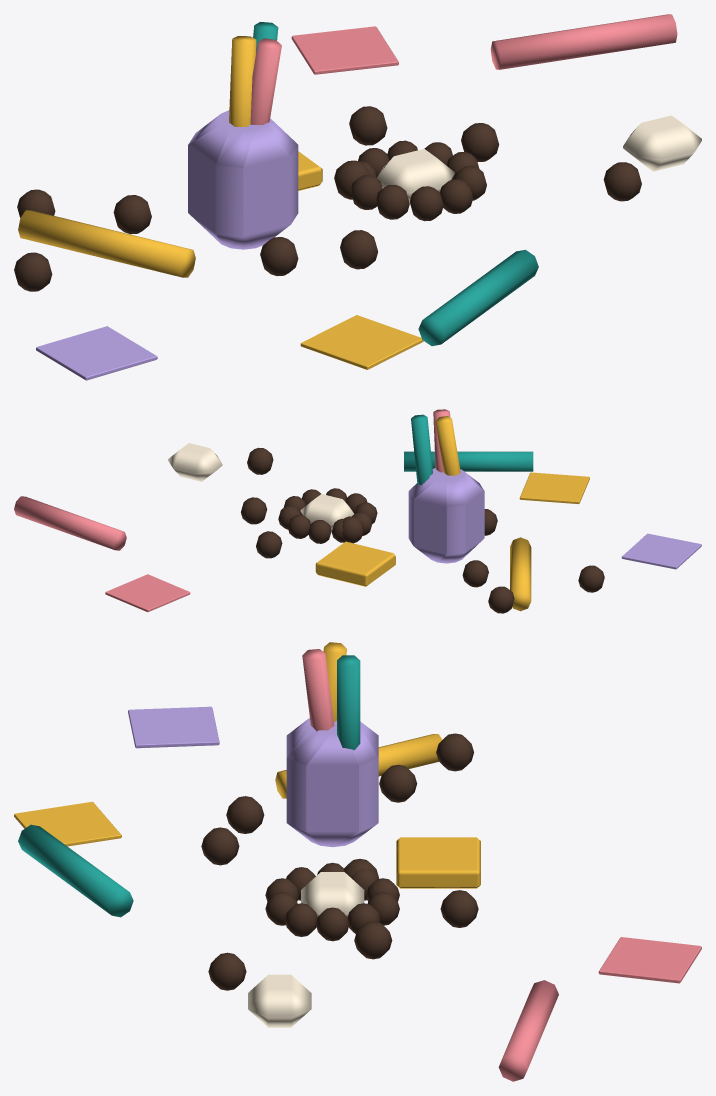
Rendered from tidy_desk_stationery.glb.
The picture shows the model from 3 angles, top to bottom: view 1: azimuth 30°, elevation 25°; view 2: azimuth 150°, elevation 25°; view 3: azimuth 270°, elevation 25°; orthographic projection. The views are drawn at different scales.
Parts seen in each view (by area): view 1: TCup, MPen2, MPen0, MPen1, MNote0, MNote2, MNote1, MCharger, TCharger, TPen0, TPen2, MCable6 (+14 smaller); view 2: TCup, MPen2, TNotes, MPen1, MNote1, MNote2, MNote0, MPen0, MCharger, TPen1, TCharger, TPen0 (+10 smaller); view 3: TCup, TNotes, MPen1, MNote1, MNote2, MPen2, MNote0, MCharger, TPen1, TCharger, MPen0, TPen2 (+12 smaller).
Part boxes in pixels (<box>): TCup: <box>188,110,298,249</box>; MPen2: <box>490,14,677,69</box>; MPen0: <box>18,210,195,277</box>; MPen1: <box>418,249,538,346</box>; MNote0: <box>300,315,423,369</box>; MNote2: <box>36,326,157,380</box>; MNote1: <box>291,26,398,74</box>; MCharger: <box>623,115,701,171</box>; TCharger: <box>377,149,454,203</box>; TPen0: <box>229,36,256,126</box>; TPen2: <box>250,38,281,124</box>; MCable6: <box>349,106,387,145</box>; TCup: <box>408,468,484,563</box>; MPen2: <box>14,496,126,550</box>; TNotes: <box>315,541,395,586</box>; MPen1: <box>404,451,533,471</box>; MNote1: <box>105,574,190,612</box>; MNote2: <box>621,533,701,569</box>; MNote0: <box>519,472,589,504</box>; MPen0: <box>510,537,531,611</box>; MCharger: <box>168,443,222,481</box>; TPen1: <box>411,414,432,485</box>; TCharger: <box>300,494,353,531</box>; TPen0: <box>435,416,460,475</box>; TCup: <box>286,718,378,847</box>; TNotes: <box>396,837,480,888</box>; MPen1: <box>18,824,133,917</box>; MNote1: <box>598,937,701,983</box>; MNote2: <box>128,706,219,748</box>; MPen2: <box>498,980,558,1081</box>; MNote0: <box>14,801,121,846</box>; MCharger: <box>248,974,311,1027</box>; TPen1: <box>337,655,360,750</box>; TCharger: <box>301,872,364,916</box>; MPen0: <box>275,734,442,798</box>; TPen2: <box>302,649,334,731</box>.
Bounding box in the file's own units: 0.8331 × 0.2001 × 0.6497.
